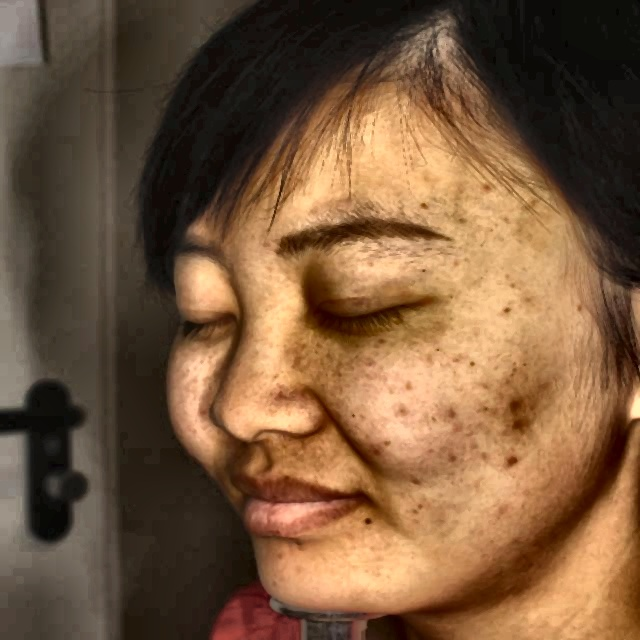comedone: (498, 396, 538, 440), (498, 451, 528, 475)
